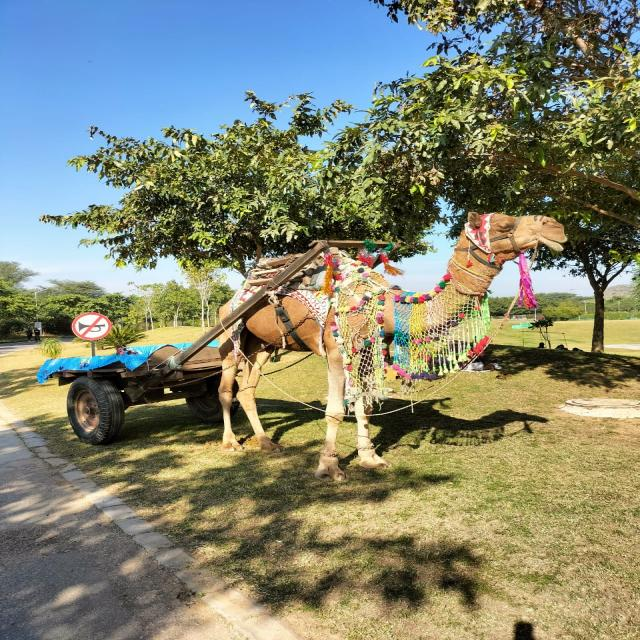Animals: (337, 203, 597, 439)
Others: (50, 349, 221, 442)
Plants: (387, 2, 640, 220), (111, 122, 397, 249)
